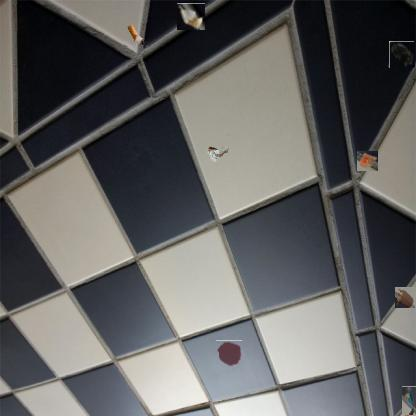dirty: (178, 3, 205, 31), (388, 41, 415, 68), (124, 24, 148, 48), (205, 146, 231, 166), (356, 151, 378, 171), (402, 386, 416, 415)
liquid: (216, 340, 242, 367), (395, 287, 415, 307)
